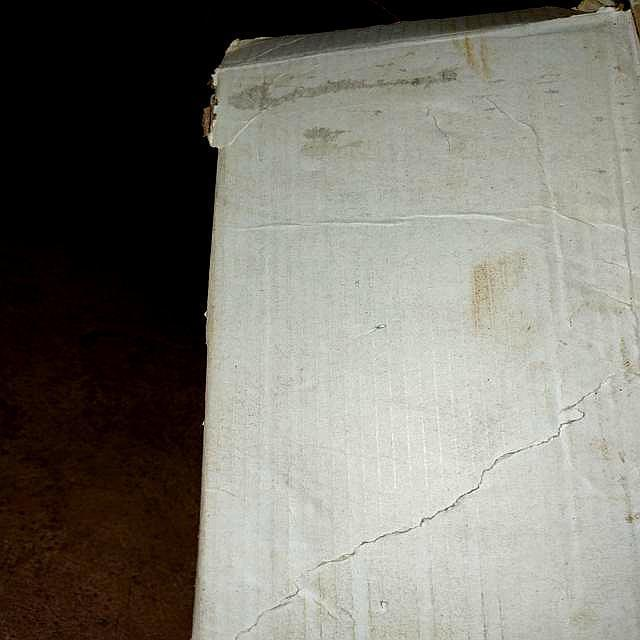Biodegradable: (191, 3, 640, 640)
